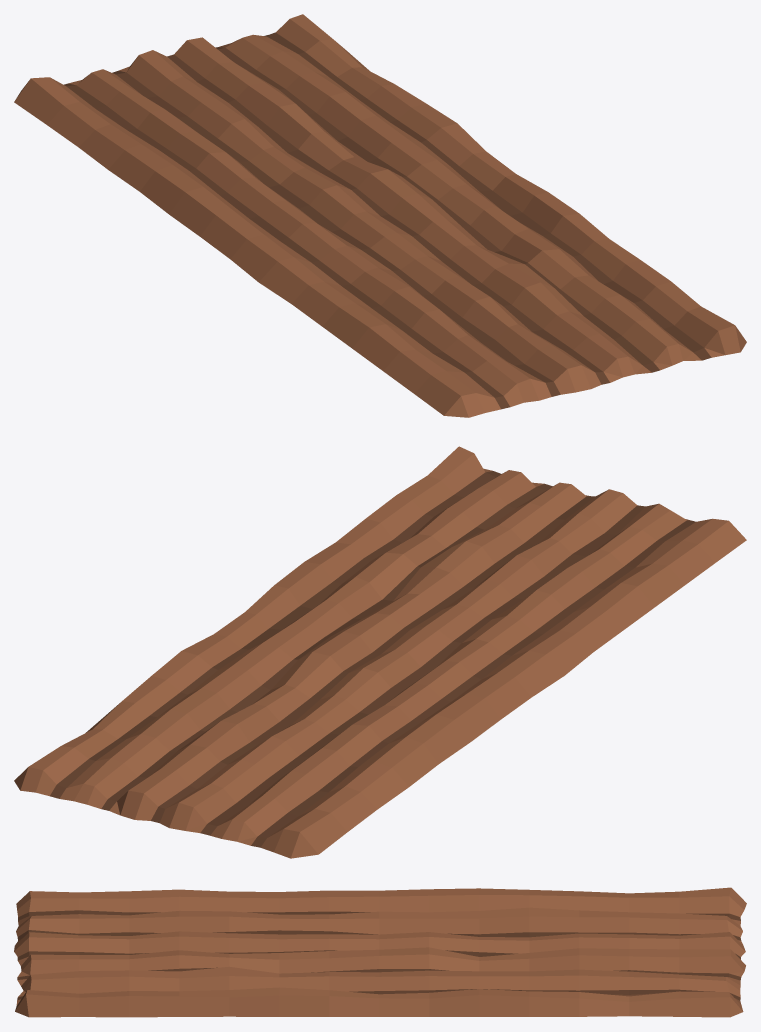
File: Field_M.fbx
3 renders of one model, top to bottom at view 1: azimuth 30°, elevation 25°; view 2: azimuth 150°, elevation 25°; view 3: azimuth 270°, elevation 25°, orthographic. The views are drawn at different scales.
Visible parts, largest first — view 1: Field_M; view 2: Field_M; view 3: Field_M.
Part boxes in pixels (left/top/right/bottom): Field_M: left=14, top=14, right=746, bottom=417; Field_M: left=14, top=446, right=746, bottom=858; Field_M: left=14, top=887, right=746, bottom=1017.
Bounding box in the file's own units: 5.25 × 0.3764 × 13.38.
